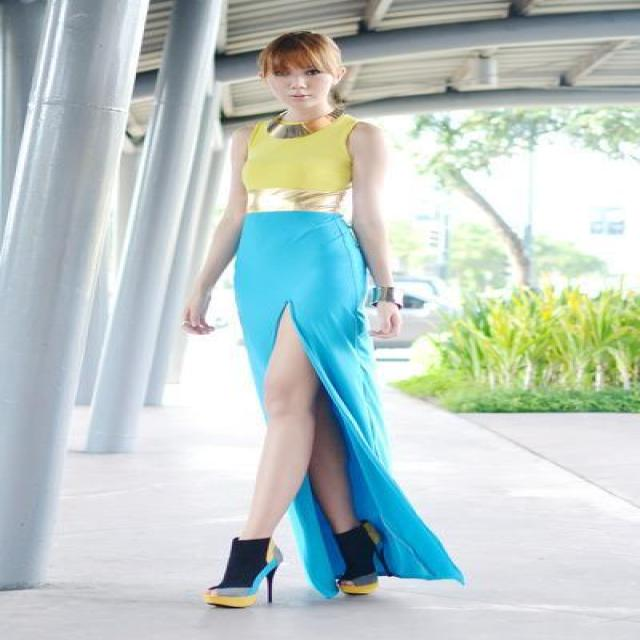shirt: (222, 115, 356, 211)
shoe: (219, 525, 392, 600)
skirt: (232, 212, 443, 598)
